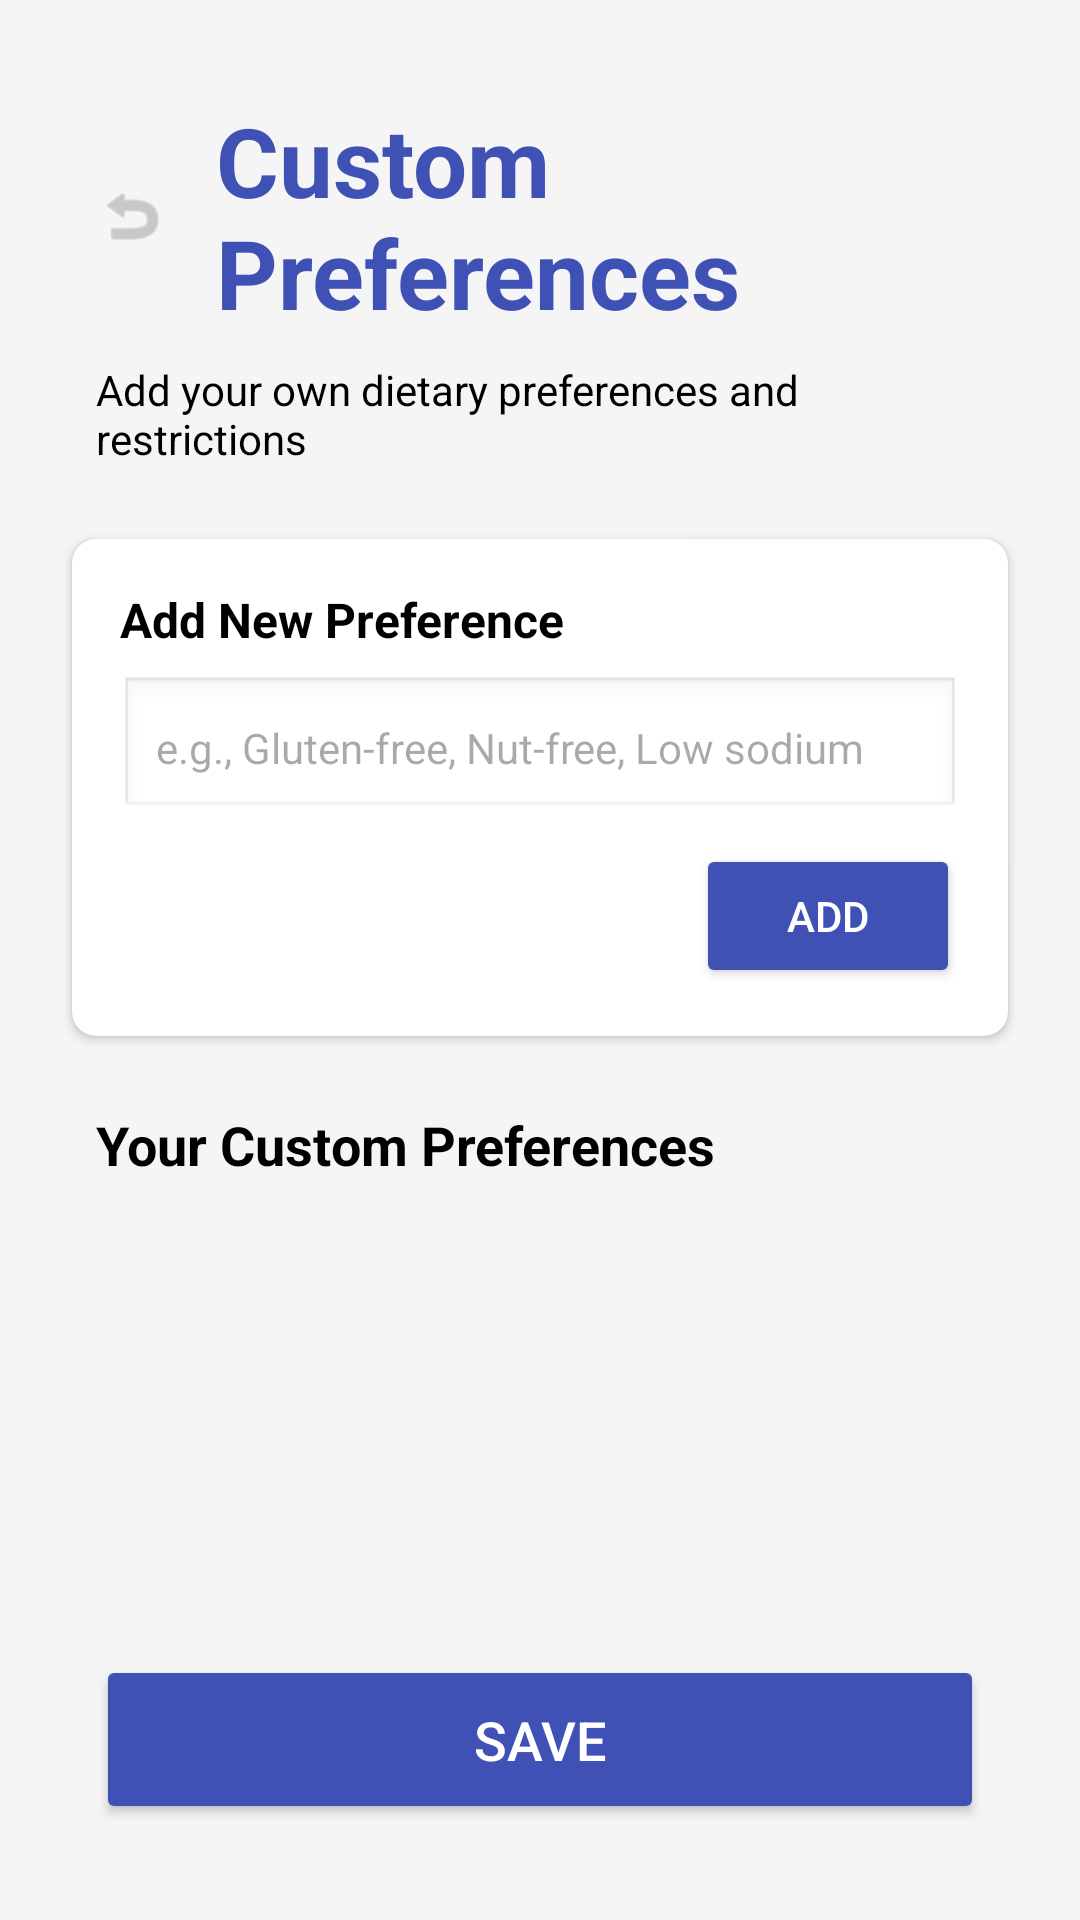

Locate icon controls on the screen. Image size 1080×1920, boxes as [x1=x1, y1=y1, x2=x2, y2=y2].
Back: [x1=107, y1=194, x2=158, y2=239]
